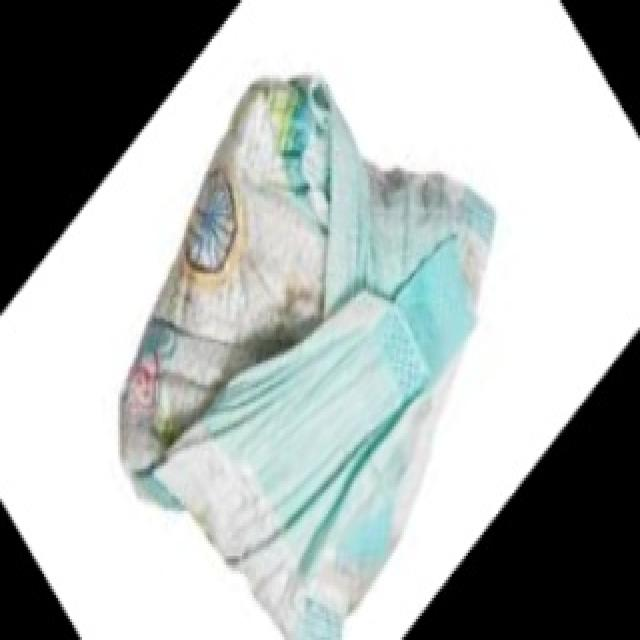B3: (118, 75, 492, 637)
